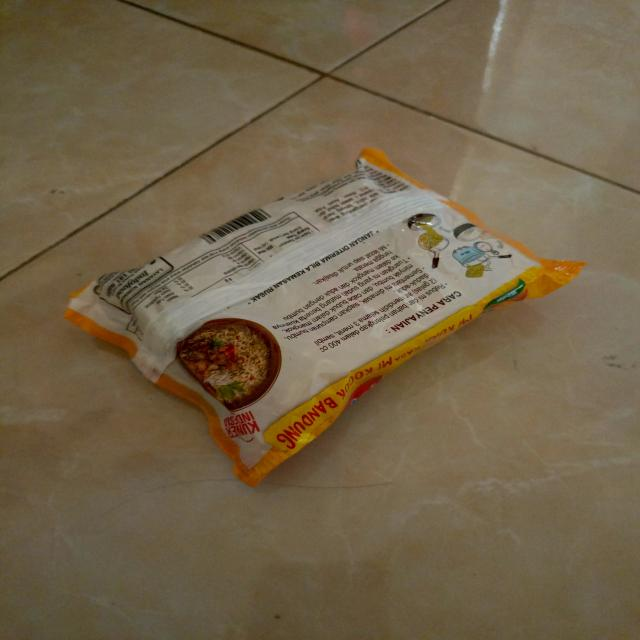indomie-mie-kocok-bandung: (63, 146, 591, 493)
